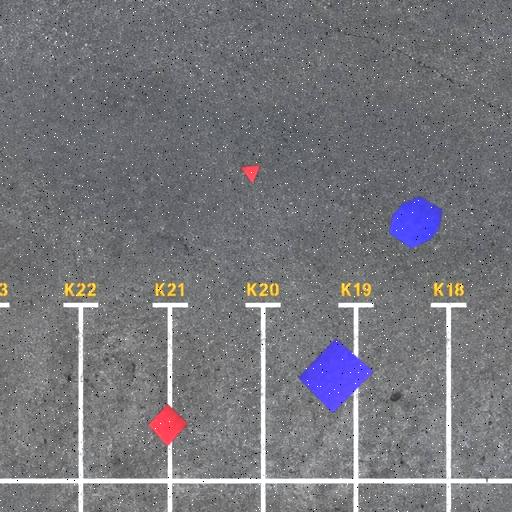BLUE_SQUARE: (298, 338, 374, 414)
RED_SQUARE: (147, 403, 189, 448)
